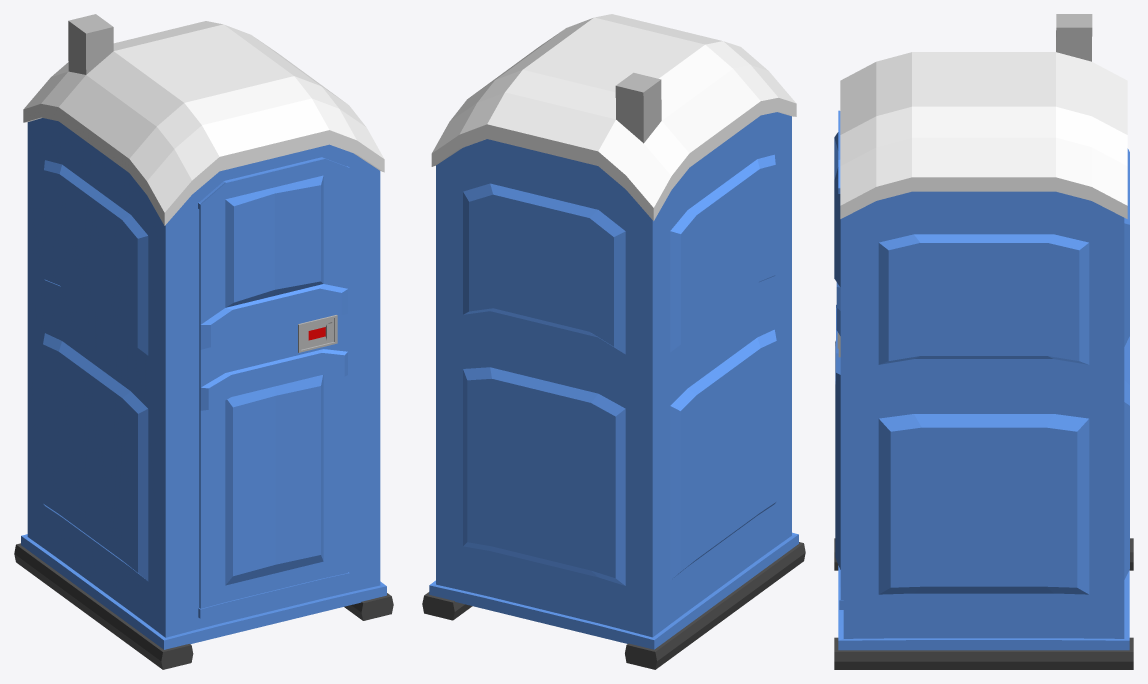
Rendered from Porta Potty.fbx.
3 renders of one model, left to right at view 1: azimuth 30°, elevation 25°; view 2: azimuth 150°, elevation 25°; view 3: azimuth 270°, elevation 25°, orthographic.
Visible parts, largest first — view 1: Porta Potty, Porta Potty Door; view 2: Porta Potty; view 3: Porta Potty, Porta Potty Door.
Part boxes in pixels (left/top/right/bottom): Porta Potty: left=14, top=14, right=393, bottom=669; Porta Potty Door: left=198, top=157, right=350, bottom=618; Porta Potty: left=422, top=14, right=805, bottom=669; Porta Potty: left=834, top=14, right=1133, bottom=669; Porta Potty Door: left=834, top=110, right=843, bottom=609.
Bounding box in the file's own units: 141 × 319 × 155.
